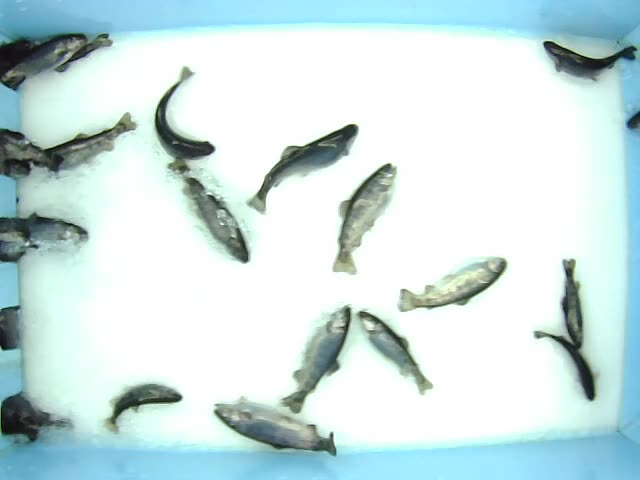fish: (245, 122, 361, 216), (165, 154, 252, 265), (278, 303, 352, 416), (213, 394, 338, 459), (331, 161, 399, 276), (31, 110, 139, 173), (357, 310, 435, 397), (397, 256, 509, 314), (153, 65, 217, 160), (532, 37, 637, 87), (533, 328, 597, 405), (99, 382, 184, 436), (559, 255, 586, 351)
